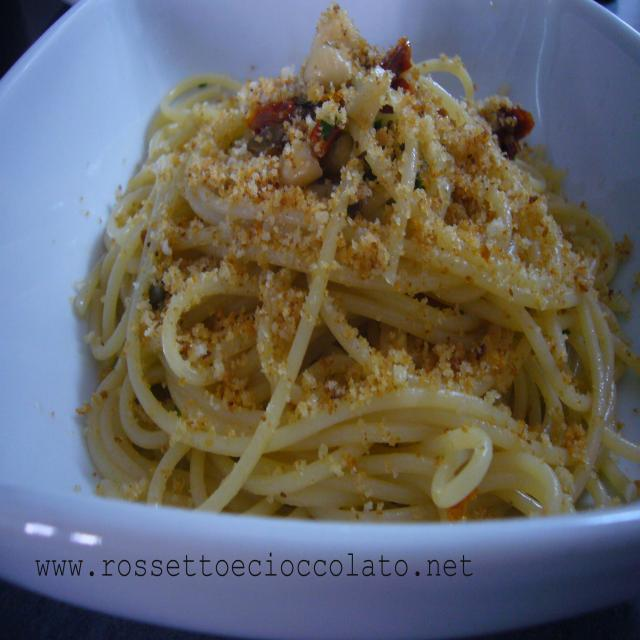Oil pasta: (90, 46, 610, 518)
